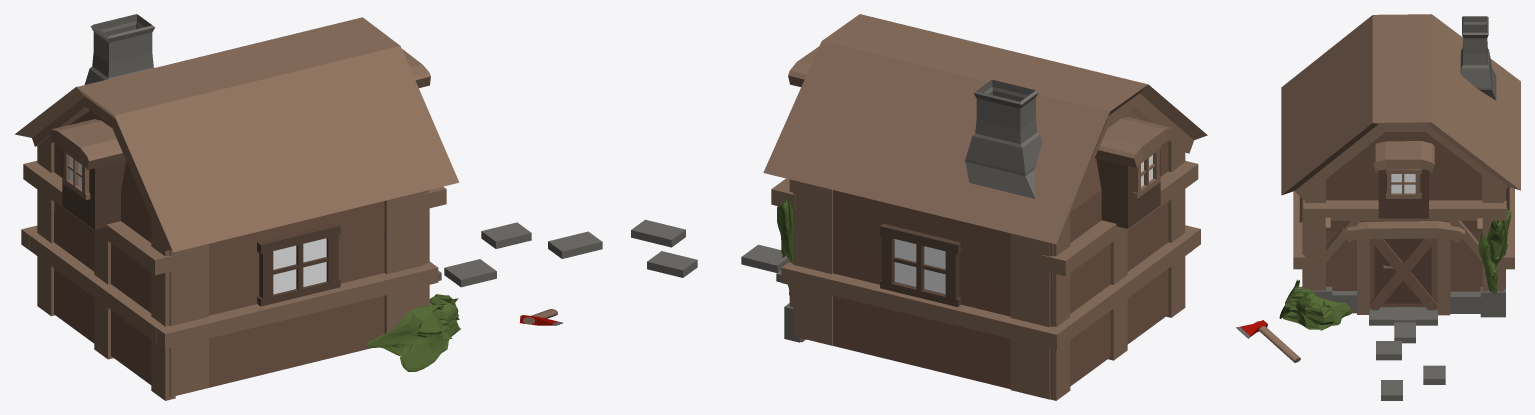
File: Cabin.glb
The picture shows the model from 3 angles, left to right: view 1: azimuth 30°, elevation 25°; view 2: azimuth 150°, elevation 25°; view 3: azimuth 270°, elevation 25°; orthographic projection. The views are drawn at different scales.
Visible parts, largest first — view 1: Roof_Base, Box, Cube019, PillarL1, PillarL, Icosphere004, Chimney, Cube034, Cube033, Pop-out001, door_frame3002, PillarB (+10 smaller); view 2: Roof_Base, Box, Chimney, Cube026, Pillar1R, PillarR, Cube034, Cube033, Pop-out001, door_frame3002, PillarB001, PillarB (+11 smaller); view 3: Roof_Base, Box, Cube005, Chimney, Cube070, door_frame3, Icosphere004, Pillar1, door_frame3001, Pop-out, door_frame2, Cube030_1 (+21 smaller).
Part boxes in pixels (x1,y1,x2,y2): Roof_Base: (15, 17, 459, 252); Box: (54, 110, 384, 387); Cube019: (157, 261, 438, 349); PillarL1: (169, 244, 208, 397); PillarL: (384, 191, 424, 333); Icosphere004: (366, 294, 460, 371); Chimney: (84, 14, 155, 84); Cube034: (29, 233, 164, 343); Cube033: (23, 160, 178, 275); Pop-out001: (62, 148, 125, 229); door_frame3002: (49, 119, 125, 169); PillarB: (151, 219, 175, 400); Roof_Base: (763, 14, 1207, 244); Box: (832, 111, 1168, 399); Chimney: (965, 79, 1042, 198); Cube026: (781, 262, 1065, 349); Pillar1R: (1010, 233, 1050, 399); PillarR: (793, 180, 832, 345); Cube034: (1057, 233, 1192, 343); Cube033: (1042, 161, 1198, 276); Pop-out001: (1096, 149, 1160, 228); door_frame3002: (1094, 117, 1174, 167); PillarB001: (1050, 213, 1070, 400); PillarB: (1166, 141, 1185, 317); Roof_Base: (1281, 14, 1520, 197); Box: (1326, 132, 1482, 307); Cube005: (1303, 200, 1506, 220); Chimney: (1460, 16, 1496, 100); Cube070: (1374, 238, 1431, 303); door_frame3: (1342, 221, 1464, 242); Icosphere004: (1279, 279, 1352, 330); Pillar1: (1304, 180, 1325, 290); door_frame3001: (1373, 141, 1434, 172); Pop-out: (1378, 169, 1428, 218); door_frame2: (1437, 238, 1450, 315); Cube030_1: (1370, 239, 1437, 310).
Size of what is drawn, in the model's own units: 9.56 by 5.19 by 5.86.
